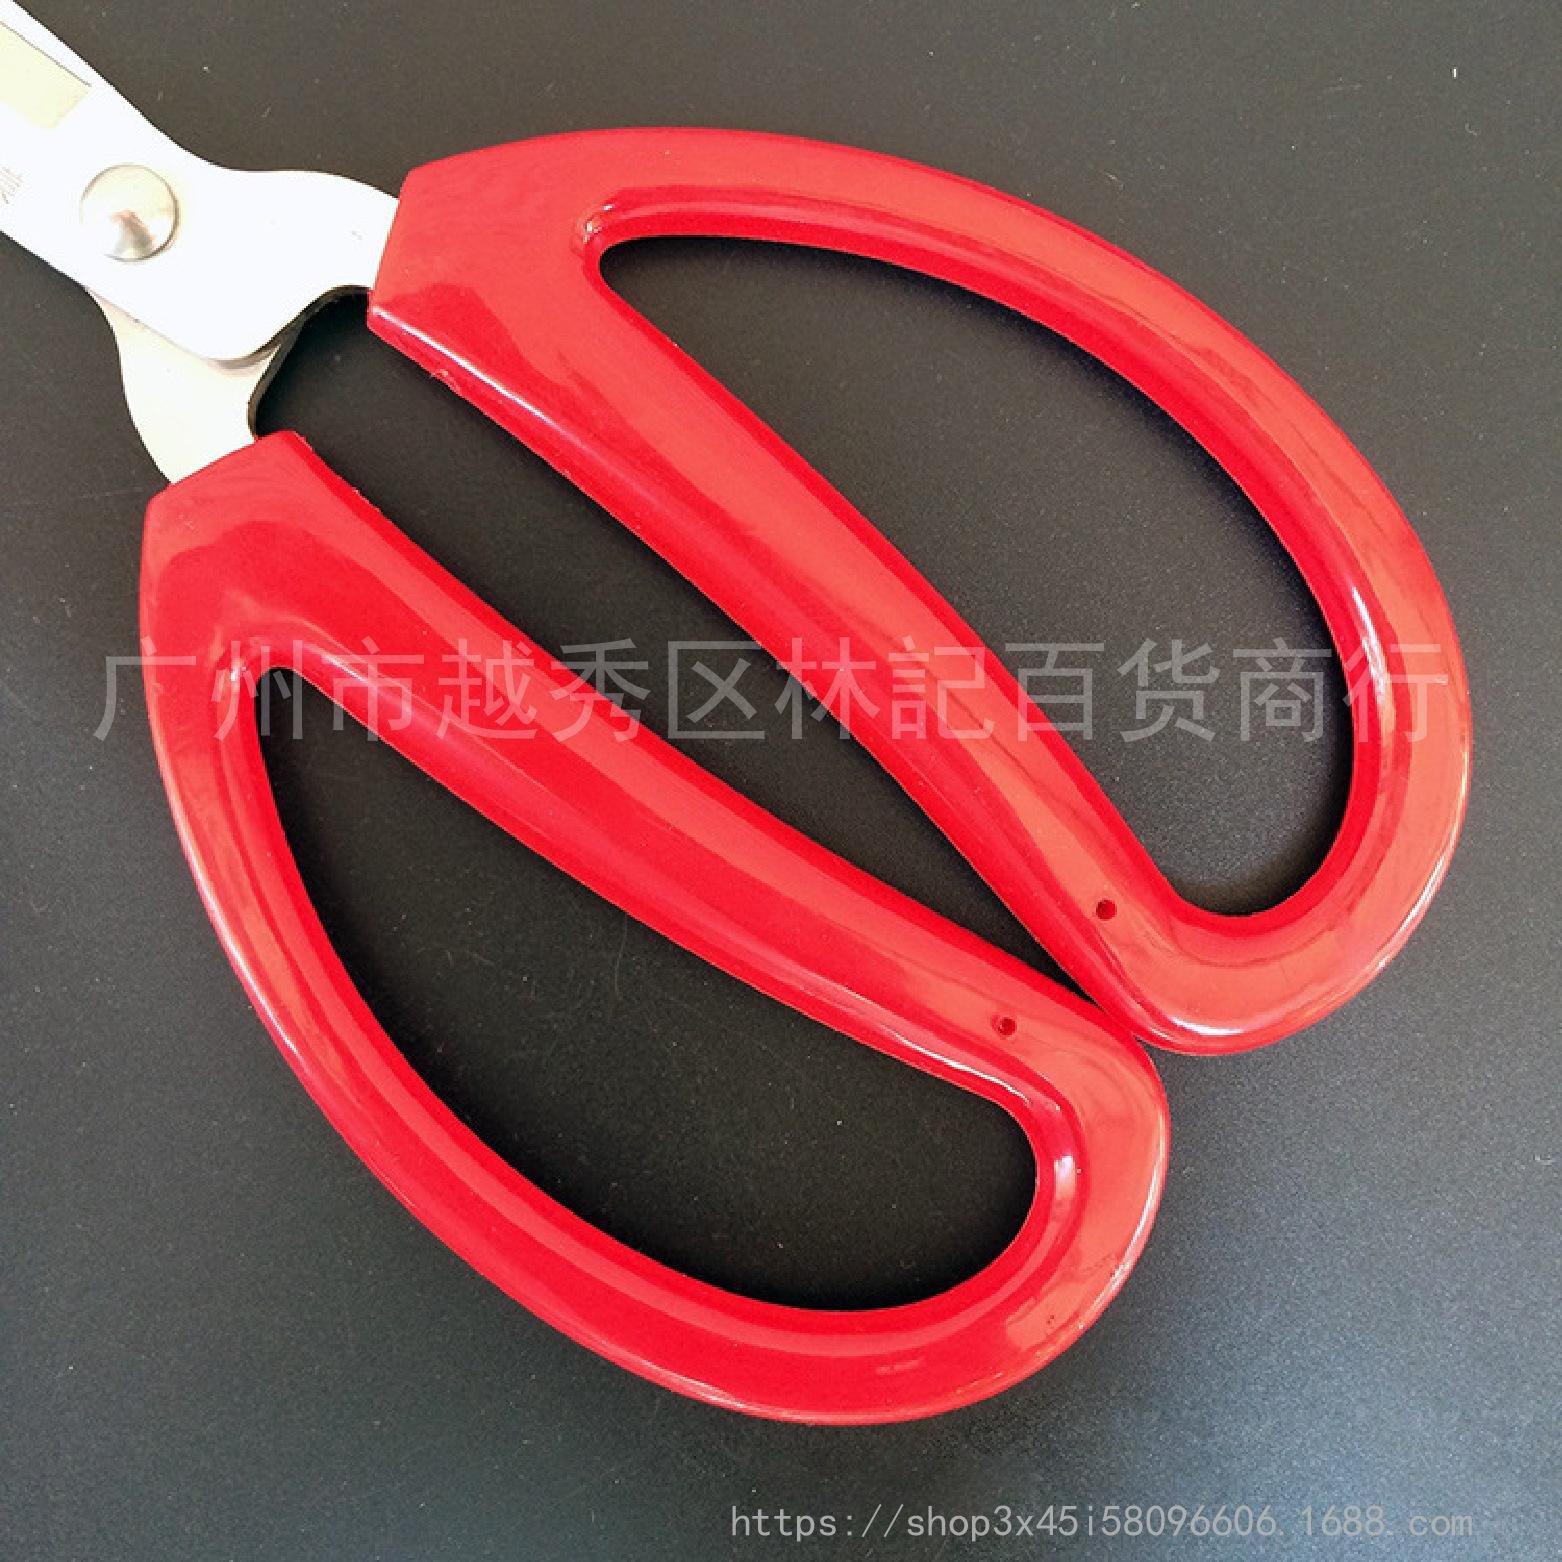scissor: (89, 1, 1357, 1463)
